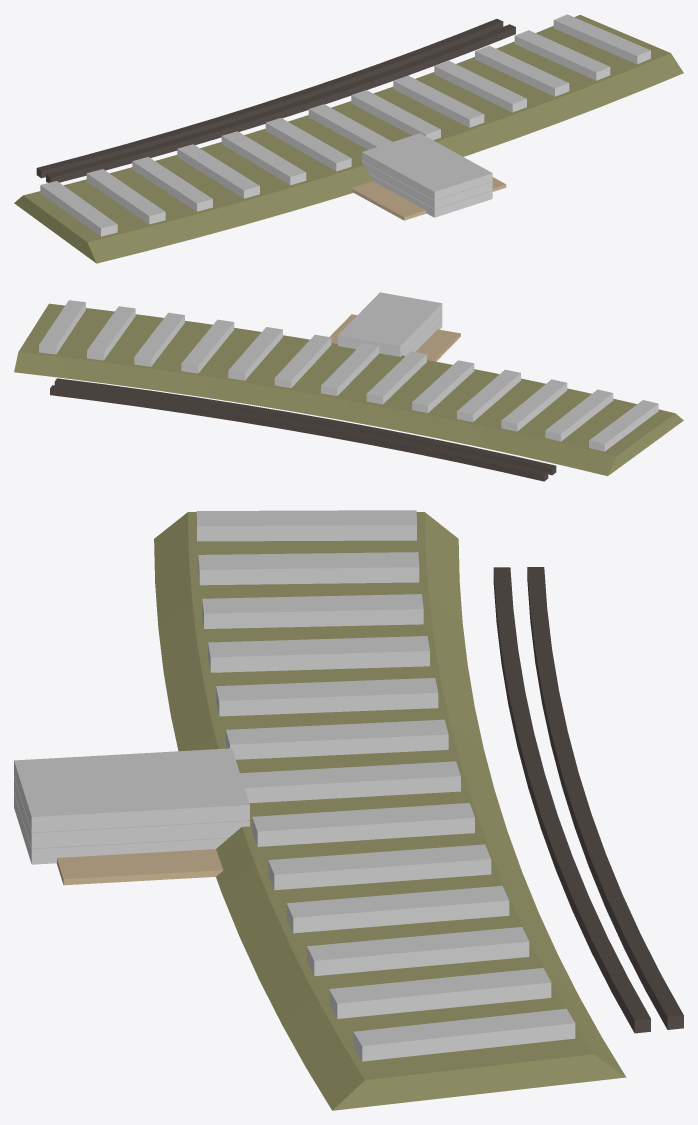
The model's file is SM_Via_CurvaR60_v3_Obra_LOD1.fbx.
3 views of the same model, one above another, from view 1: azimuth 30°, elevation 25°; view 2: azimuth 150°, elevation 25°; view 3: azimuth 270°, elevation 25° (orthographic). The views are drawn at different scales.
Visible parts, largest first — view 1: SM_via_trazado_v13_LOD1; view 2: SM_via_trazado_v13_LOD1; view 3: SM_via_trazado_v13_LOD1.
Boxes of the visible parts, <box> form: SM_via_trazado_v13_LOD1: <box>14,14,683,263</box>; SM_via_trazado_v13_LOD1: <box>14,292,683,481</box>; SM_via_trazado_v13_LOD1: <box>14,510,683,1110</box>.
Size of the model in its own units: 16 by 0.63 by 7.92.
